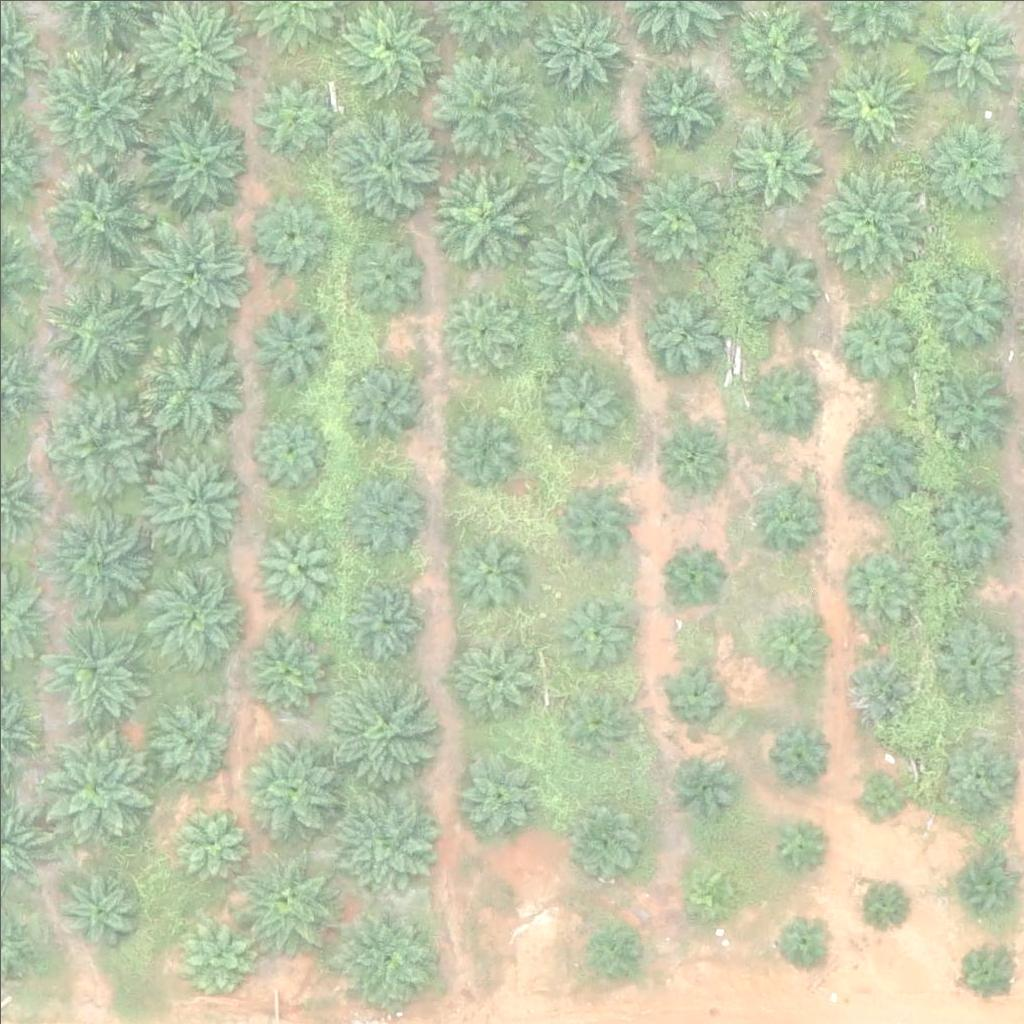Kelapa_Sawit: (323, 779, 436, 893), (317, 672, 430, 786), (36, 46, 149, 160), (136, 215, 249, 329), (36, 733, 149, 846), (31, 614, 144, 727), (37, 505, 150, 618), (137, 104, 250, 217), (427, 48, 540, 161), (526, 215, 639, 328), (526, 102, 639, 215), (38, 386, 150, 500), (35, 157, 147, 271), (135, 328, 247, 442), (330, 108, 442, 221), (429, 155, 541, 268), (335, 905, 435, 1006), (237, 854, 337, 955), (624, 167, 724, 268), (817, 170, 917, 271), (237, 735, 337, 835), (140, 568, 240, 668), (137, 454, 237, 554), (47, 282, 147, 382), (923, 113, 1023, 213), (532, 357, 620, 446), (928, 618, 1016, 706), (833, 418, 921, 506), (924, 478, 1012, 566), (436, 286, 524, 374), (631, 59, 719, 147), (736, 241, 824, 329), (732, 115, 820, 203), (922, 2, 1010, 90), (53, 861, 140, 950), (642, 287, 729, 376), (165, 909, 252, 997), (248, 297, 335, 385), (242, 403, 329, 491), (333, 358, 420, 446), (925, 359, 1012, 447), (244, 194, 331, 282), (249, 74, 336, 162), (827, 62, 914, 150), (923, 261, 1010, 349), (554, 687, 629, 763), (570, 797, 645, 873), (456, 636, 531, 712), (461, 756, 536, 832), (341, 583, 416, 659), (343, 469, 418, 545), (249, 630, 324, 706), (254, 526, 329, 602), (147, 697, 222, 773), (938, 732, 1013, 807), (172, 805, 247, 880), (744, 356, 819, 431), (756, 472, 831, 547), (555, 481, 630, 556), (450, 409, 525, 484), (448, 537, 523, 612), (554, 597, 629, 672), (846, 546, 921, 621), (839, 647, 914, 722), (667, 742, 742, 817), (653, 652, 728, 727), (655, 538, 730, 613), (652, 414, 727, 489), (348, 235, 423, 310), (838, 298, 913, 373), (956, 940, 1019, 1003), (955, 851, 1018, 914), (758, 611, 821, 674), (681, 856, 744, 919), (589, 918, 652, 981), (772, 909, 834, 972), (768, 809, 830, 872), (768, 722, 830, 785), (854, 877, 904, 928), (855, 771, 905, 822)
